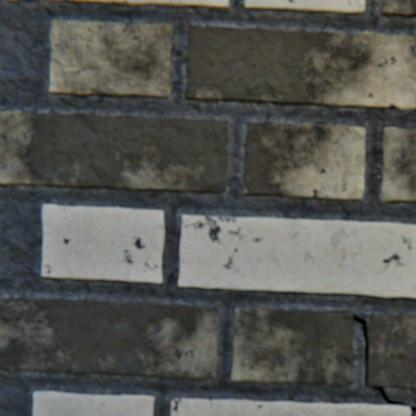brick: (179, 215, 415, 298), (186, 26, 415, 111), (0, 112, 228, 192), (0, 297, 219, 378), (43, 205, 165, 283), (243, 122, 365, 200), (50, 21, 172, 98), (232, 308, 353, 385), (172, 398, 409, 415), (366, 314, 415, 387), (34, 391, 155, 415), (379, 128, 415, 202), (0, 0, 229, 9), (245, 0, 364, 15), (381, 0, 415, 18)
crack: (353, 315, 407, 405), (409, 406, 415, 415), (327, 311, 345, 312)
